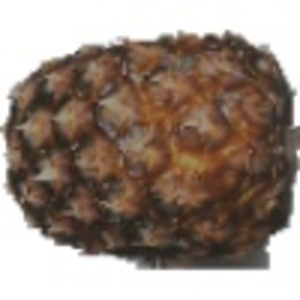abacaxi: (5, 29, 296, 253)
